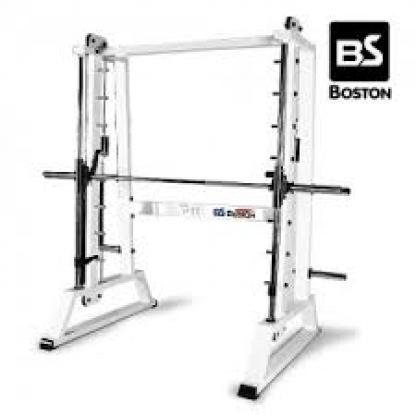smith machine: (42, 16, 327, 403)
